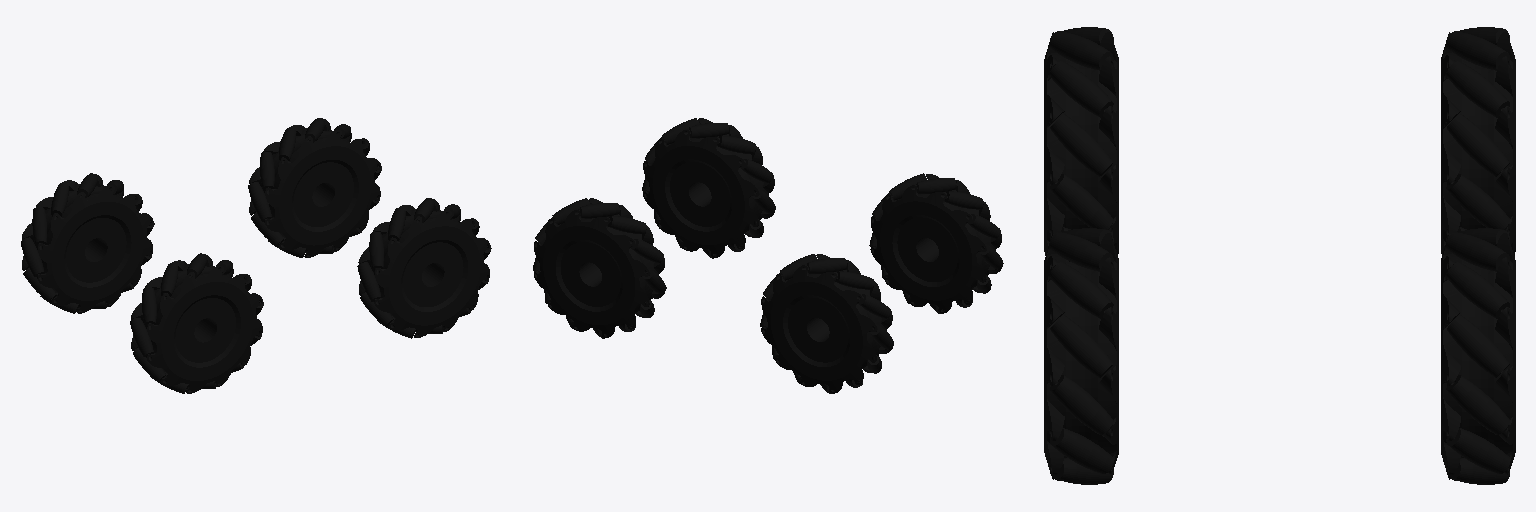
The robot description file, URDF, robot "mecanum_robot":
<?xml version="1.0"?>
<robot name="mecanum_robot">
  <!-- Materials -->
  <material name="chassis_color">
    <color rgba="0.4 0.4 0.4 1.0"/>
  </material>
  <material name="wheel_color">
    <color rgba="0.1 0.1 0.1 1.0"/>
  </material>

  <!-- Base link: no visual (chassis rendered by Robot Marker) -->
  <link name="base_link">
    <!-- Empty link - just for TF reference -->
  </link>

  <!-- Wheels: cylinders rotated so their axis matches the wheel axle -->
  <link name="wheel_fl">
    <visual>
      <origin xyz="-0.1 0 -0.1" rpy="1.5708 0 0"/>
      <geometry>
        <mesh filename="package://odometry_pkg/meshes/wheel.stl" scale="0.001 0.001 0.001"/>
      </geometry>
      <material name="wheel_color"/>
    </visual>
    <collision>
      <origin xyz="-0.1 0 -0.1" rpy="1.5708 0 0"/>
      <geometry>
        <mesh filename="package://odometry_pkg/meshes/wheel.stl" scale="0.001 0.001 0.001"/>
      </geometry>
    </collision>
  </link>

  <link name="wheel_fr">
    <visual>
      <origin xyz="-0.1 0 -0.1" rpy="1.5708 0 0"/>
      <geometry>
        <mesh filename="package://odometry_pkg/meshes/wheel.stl" scale="0.001 0.001 0.001"/>
      </geometry>
      <material name="wheel_color"/>
    </visual>
    <collision>
      <origin xyz="-0.1 0 -0.1" rpy="1.5708 0 0"/>
      <geometry>

        <mesh filename="package://odometry_pkg/meshes/wheel.stl" scale="0.001 0.001 0.001"/>
      </geometry>
    </collision>
  </link>

  <link name="wheel_rr">
    <visual>
      <origin xyz="-0.1 0 -0.1" rpy="1.5708 0 0"/>
      <geometry>
        <mesh filename="package://odometry_pkg/meshes/wheel.stl" scale="0.001 0.001 0.001"/>
      </geometry>
      <material name="wheel_color"/>
    </visual>
    <collision>
      <origin xyz="-0.1 0 -0.1" rpy="1.5708 0 0"/>
      <geometry>
        <mesh filename="package://odometry_pkg/meshes/wheel.stl" scale="0.001 0.001 0.001"/>
      </geometry>
    </collision>
  </link>

  <link name="wheel_rl">
    <visual>
      <origin xyz="-0.1 0 -0.1" rpy="1.5708 0 0"/>
      <geometry>
        <mesh filename="package://odometry_pkg/meshes/wheel.stl" scale="0.001 0.001 0.001"/>
      </geometry>
      <material name="wheel_color"/>
    </visual>
    <collision>
      <origin xyz="0.1 0 -0.1" rpy="1.5708 0 0"/>
      <geometry>
        <mesh filename="package://odometry_pkg/meshes/wheel.stl" scale="0.001 0.001 0.001"/>
      </geometry>
    </collision>
  </link>

  <!-- Wheel joints (continuous for rotation visualization) -->
  <!-- Positions match default mecanum geometry: wheel_base_x=0.30m, wheel_base_y=0.25m -->
  <joint name="wheel_fl_joint" type="continuous">
    <origin xyz="0.15 0.15 0.05" rpy="0 0 0"/>
    <axis xyz="0 1 0"/>
    <parent link="base_link"/>
    <child link="wheel_fl"/>
  </joint>

  <joint name="wheel_fr_joint" type="continuous">
    <origin xyz="0.15 -0.1 0.05" rpy="0 0 0"/>
    <axis xyz="0 1 0"/>
    <parent link="base_link"/>
    <child link="wheel_fr"/>
  </joint>

  <joint name="wheel_rr_joint" type="continuous">
    <origin xyz="-0.15 -0.1 0.05" rpy="0 0 0"/>
    <axis xyz="0 1 0"/>
    <parent link="base_link"/>
    <child link="wheel_rr"/>
  </joint>

  <joint name="wheel_rl_joint" type="continuous">
    <origin xyz="-0.15 0.15 0.05" rpy="0 0 0"/>
    <axis xyz="0 1 0"/>
    <parent link="base_link"/>
    <child link="wheel_rl"/>
  </joint>
</robot>

--- Facts derived from the render (not from the file) ---
3 views of the same robot in one strip: view 1: azimuth 30°, elevation 25°; view 2: azimuth 150°, elevation 25°; view 3: azimuth 270°, elevation 25° (orthographic).
Robot: mecanum_robot — 5 links, 4 joints (4 continuous); root link base_link; default pose: every joint at zero.
Links seen in each view (by area): view 1: wheel_fl, wheel_rr, wheel_fr, wheel_rl; view 2: wheel_rl, wheel_fr, wheel_rr, wheel_fl; view 3: wheel_fl, wheel_fr, wheel_rl, wheel_rr.
Boxes of the visible links, x1,y1,x2,y2 form: wheel_fl: (248, 118, 381, 257); wheel_rr: (130, 253, 263, 393); wheel_fr: (357, 198, 491, 338); wheel_rl: (21, 173, 154, 313); wheel_rl: (760, 254, 893, 393); wheel_fr: (642, 118, 775, 258); wheel_rr: (869, 173, 1003, 313); wheel_fl: (533, 198, 666, 338); wheel_fl: (1441, 228, 1515, 484); wheel_fr: (1044, 228, 1118, 484); wheel_rl: (1441, 27, 1515, 255); wheel_rr: (1044, 27, 1118, 255).
Size in the robot's own frame: 0.462 by 0.297 by 0.162 metres.
4 mesh visuals loaded from 1 distinct referenced files (1 binary STL).
